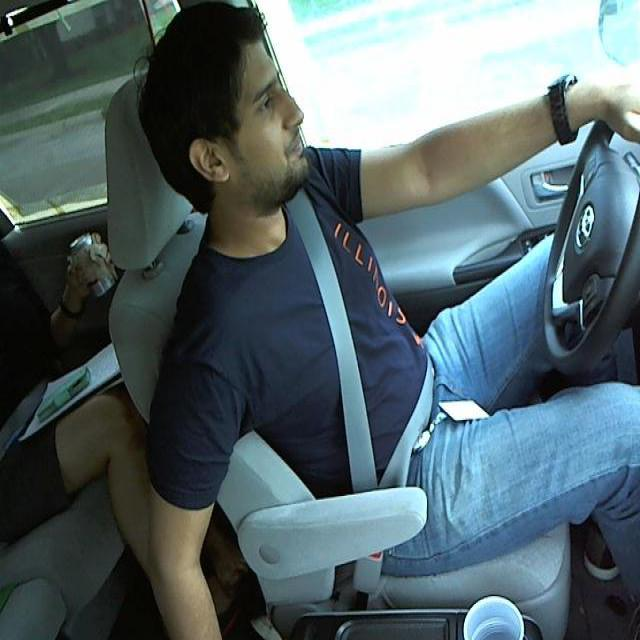seatbelt: (290, 231, 436, 489)
